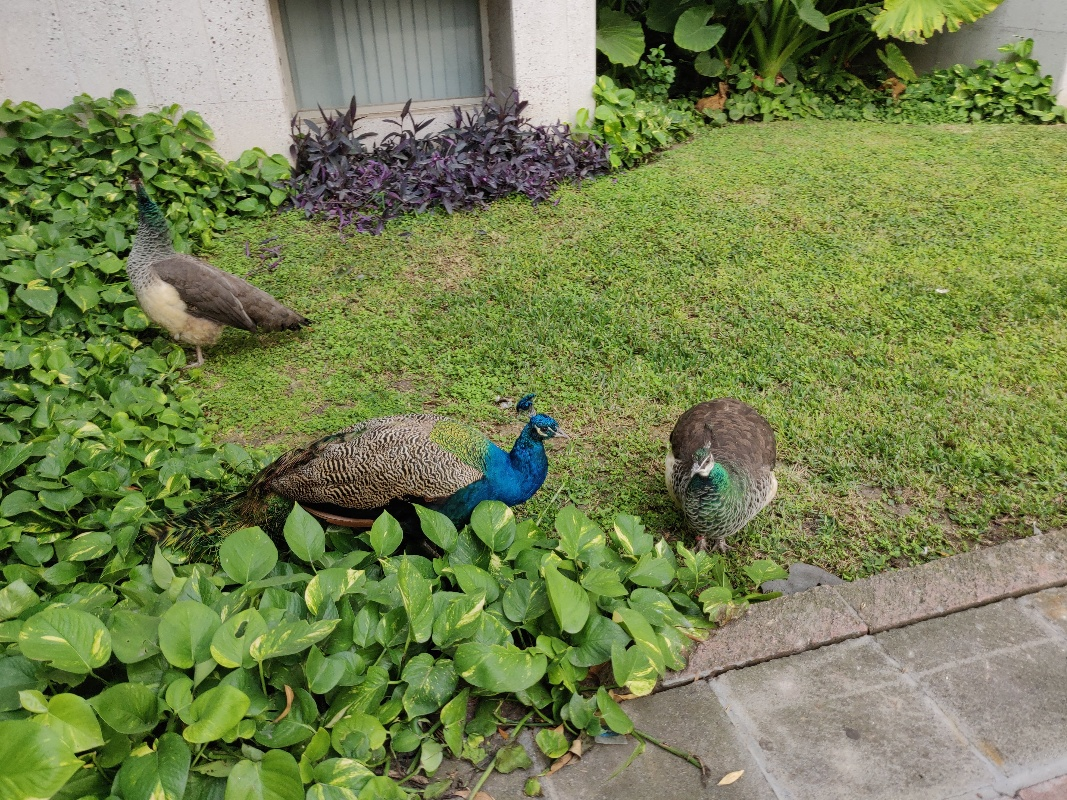pavoreal: (236, 391, 565, 523), (120, 169, 282, 355), (663, 395, 785, 538)
